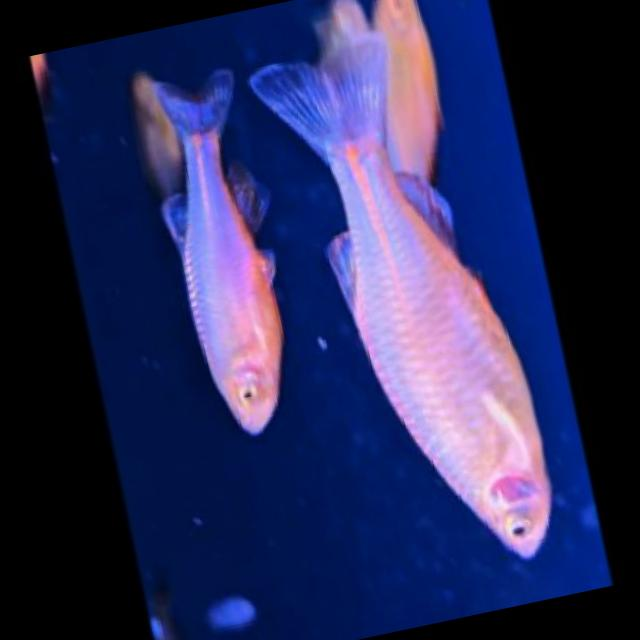ZebraFish: (234, 18, 560, 598), (128, 52, 303, 446)
